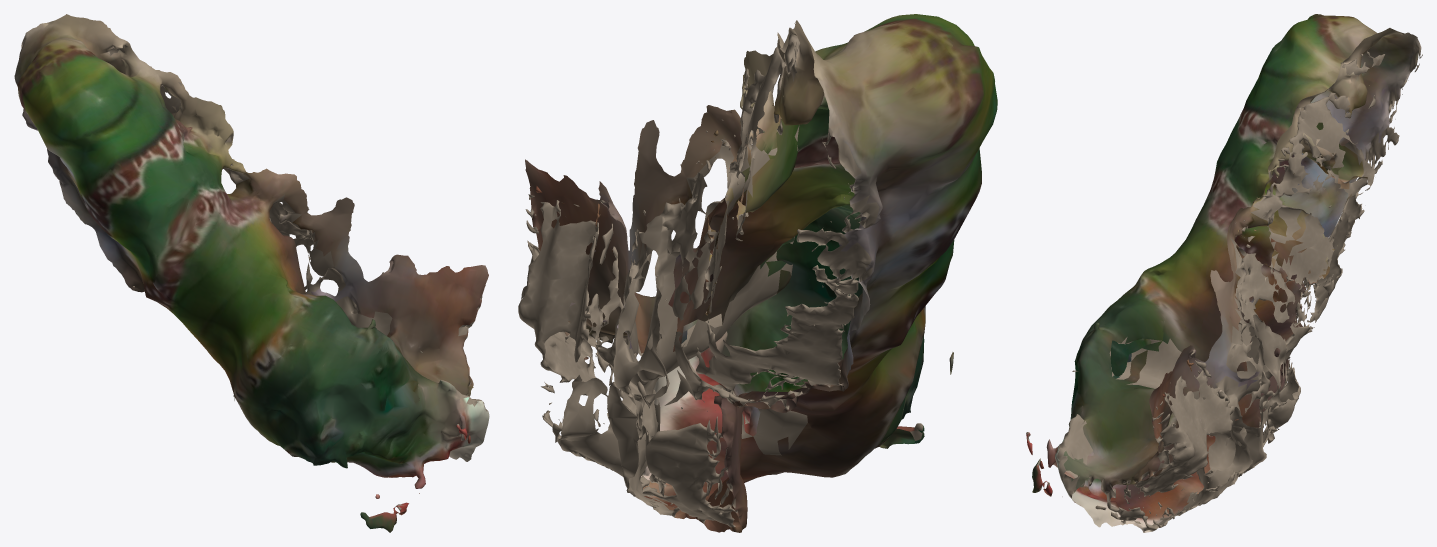
Rendered from mesh_lowpoly.obj.
The picture shows the model from 3 angles, left to right: view 1: azimuth 30°, elevation 25°; view 2: azimuth 150°, elevation 25°; view 3: azimuth 270°, elevation 25°; orthographic projection. The views are drawn at different scales.
Size of the model in its own units: 1.09 by 1.17 by 1.05.
4 materials, 4 textured.
